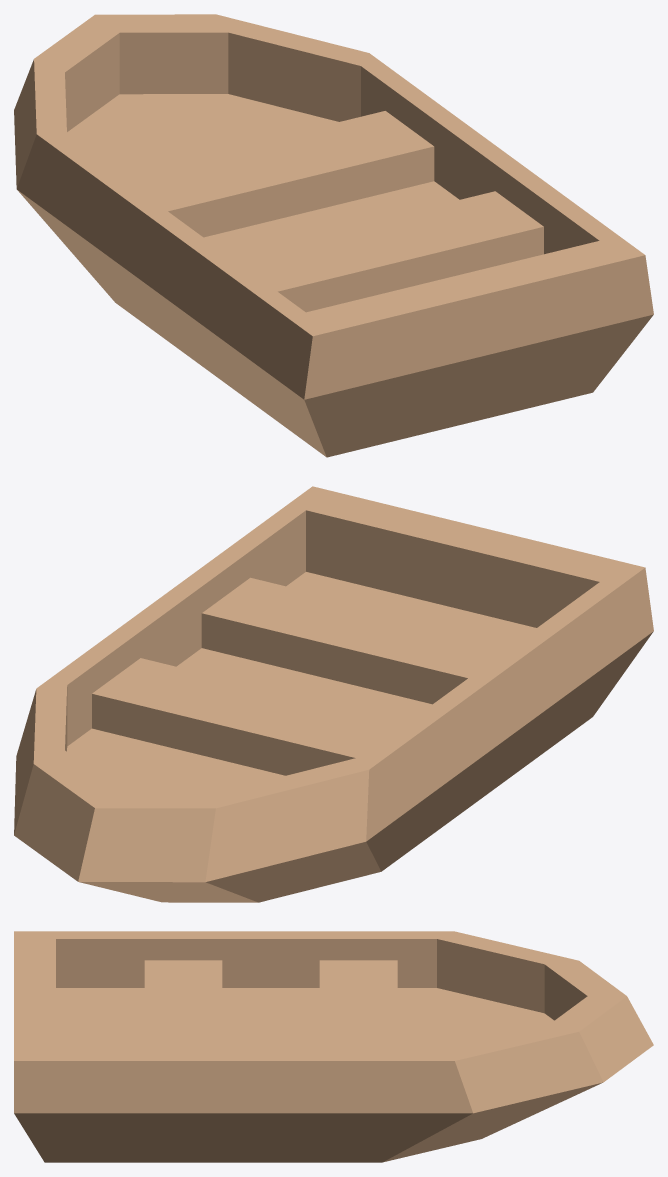
The model's file is boat-large.glb.
The picture shows the model from 3 angles, top to bottom: view 1: azimuth 30°, elevation 25°; view 2: azimuth 150°, elevation 25°; view 3: azimuth 270°, elevation 25°; orthographic projection. The views are drawn at different scales.
Visible parts, largest first — view 1: boat_large_8angles; view 2: boat_large_8angles; view 3: boat_large_8angles.
Part boxes in pixels (box(x1,y1,x2,y2)): boat_large_8angles: box(14, 14, 653, 457); boat_large_8angles: box(14, 486, 653, 902); boat_large_8angles: box(14, 931, 653, 1162).
Size of the model in its own units: 0.8929 by 0.3499 by 1.77.
